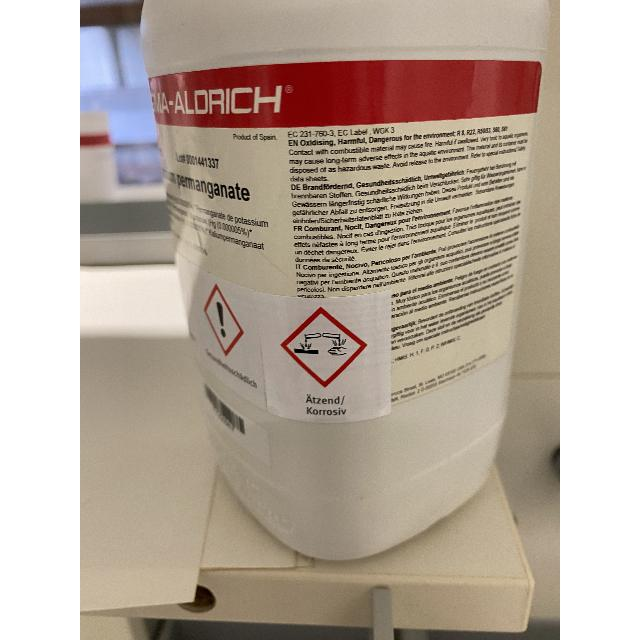corrosive: (278, 306, 368, 388)
health-ozone layer hazard: (198, 281, 244, 357)
